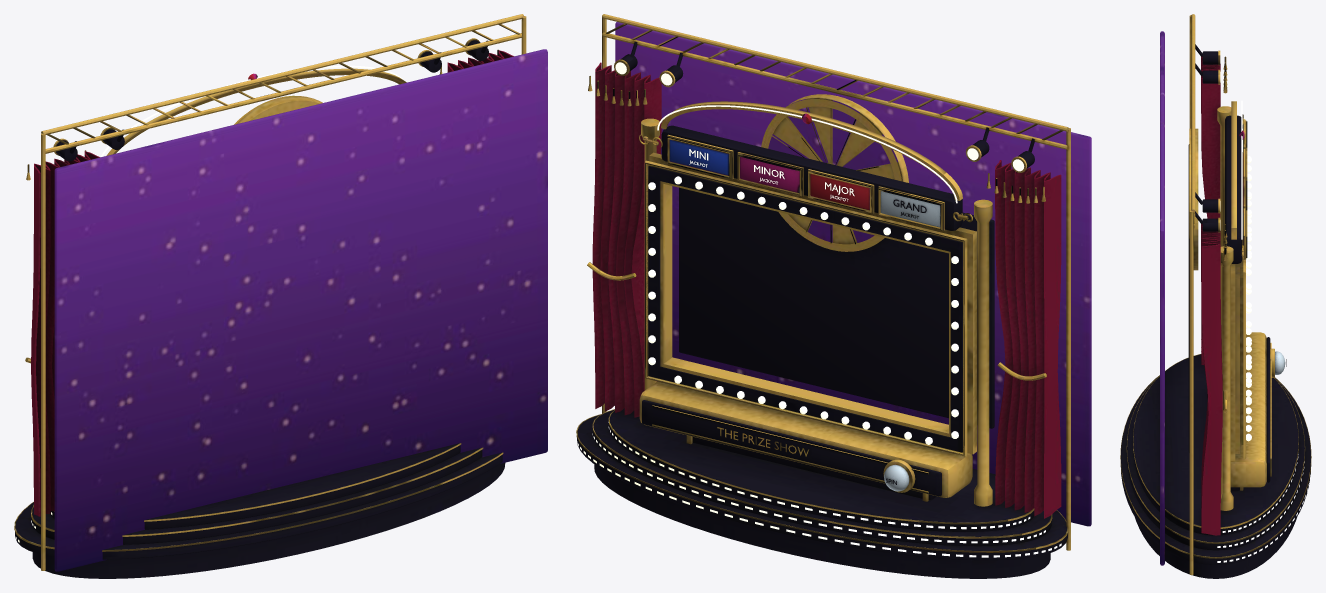
3 renders of one model, left to right at view 1: azimuth 30°, elevation 25°; view 2: azimuth 150°, elevation 25°; view 3: azimuth 270°, elevation 25°, orthographic. The views are drawn at different scales.
Parts seen in each view (by area): view 1: glow_Scenic_purple, Midnight_lacquer, Champagne_gold, Burgundy_velvet; view 2: Midnight_lacquer, Champagne_gold, glow_Scenic_purple, Burgundy_velvet, Warm_marquee_glow, Optical_jewel; view 3: Midnight_lacquer, Champagne_gold, Burgundy_velvet, glow_Scenic_purple, Warm_marquee_glow, Optical_jewel.
Part boxes in pixels (x1,y1,x2,y2): glow_Scenic_purple: [54, 49, 547, 571]; Midnight_lacquer: [15, 40, 505, 578]; Champagne_gold: [14, 14, 526, 570]; Burgundy_velvet: [31, 50, 513, 516]; Midnight_lacquer: [577, 41, 1067, 578]; Champagne_gold: [576, 14, 1070, 552]; glow_Scenic_purple: [615, 22, 1091, 526]; Burgundy_velvet: [592, 62, 1061, 518]; Warm_marquee_glow: [576, 62, 1061, 557]; Optical_jewel: [669, 113, 940, 491]; Midnight_lacquer: [1120, 44, 1311, 578]; Champagne_gold: [1120, 14, 1311, 575]; Burgundy_velvet: [1201, 56, 1222, 535]; glow_Scenic_purple: [1160, 31, 1164, 565]; Warm_marquee_glow: [1217, 52, 1311, 562]; Optical_jewel: [1239, 123, 1285, 374].
Size of the model in its own units: 11.59 by 10 by 4.64.
Materials: 6 (5 with a texture image).
